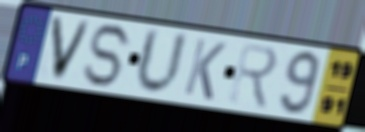9: (277, 48, 322, 118)
K: (181, 36, 229, 103)
R: (226, 41, 280, 113)
S: (81, 22, 136, 89)
U: (132, 25, 191, 98)
V: (49, 13, 95, 84)
